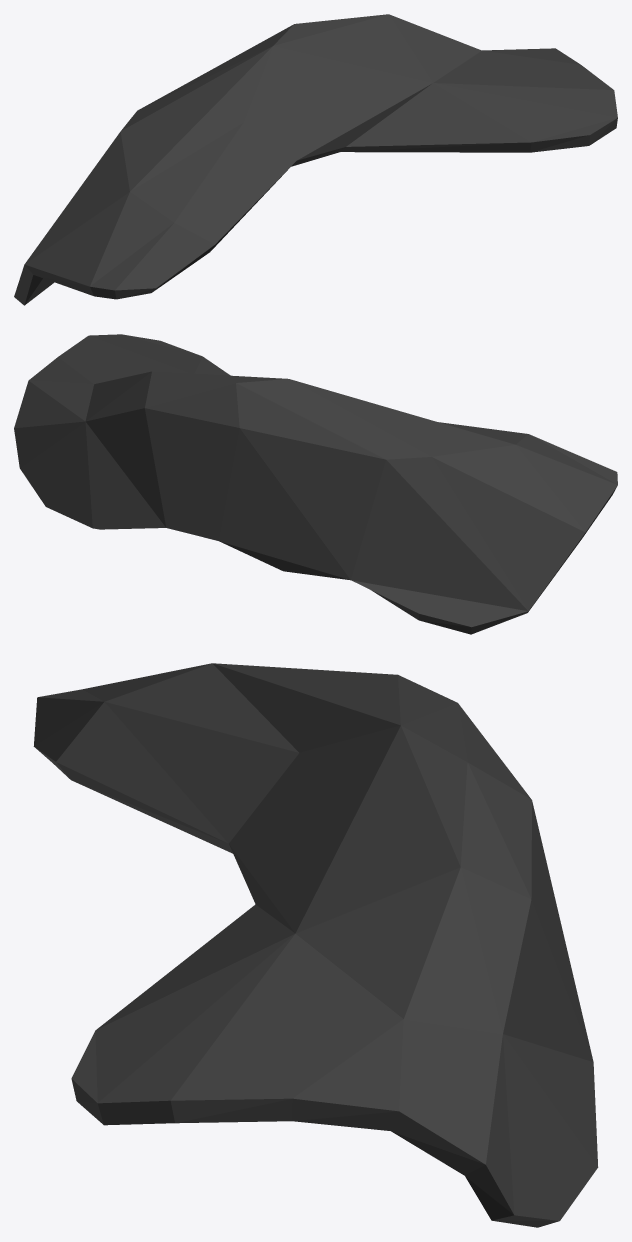
Rendered from c1_dorsal_tubercle.glb.
3 views of the same model, one above another, from view 1: azimuth 30°, elevation 25°; view 2: azimuth 150°, elevation 25°; view 3: azimuth 270°, elevation 25° (orthographic). The views are drawn at different scales.
Parts seen in each view (by area): view 1: c1_dorsal_tubercle; view 2: c1_dorsal_tubercle; view 3: c1_dorsal_tubercle.
Boxes of the visible parts, x1,y1,x2,y2 form: c1_dorsal_tubercle: (14,14,617,305); c1_dorsal_tubercle: (14,334,617,634); c1_dorsal_tubercle: (33,663,598,1227).
Size of the model in its own units: 10.59 by 3.65 by 4.94.
Materials: 1 (1 with a texture image).
